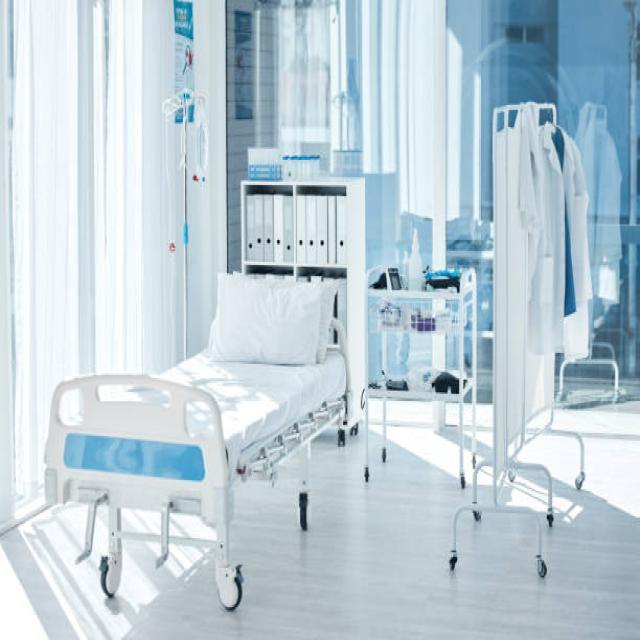Saline Stand: (155, 79, 216, 370)
bed: (42, 270, 354, 610)
tools_table: (353, 243, 478, 502)
